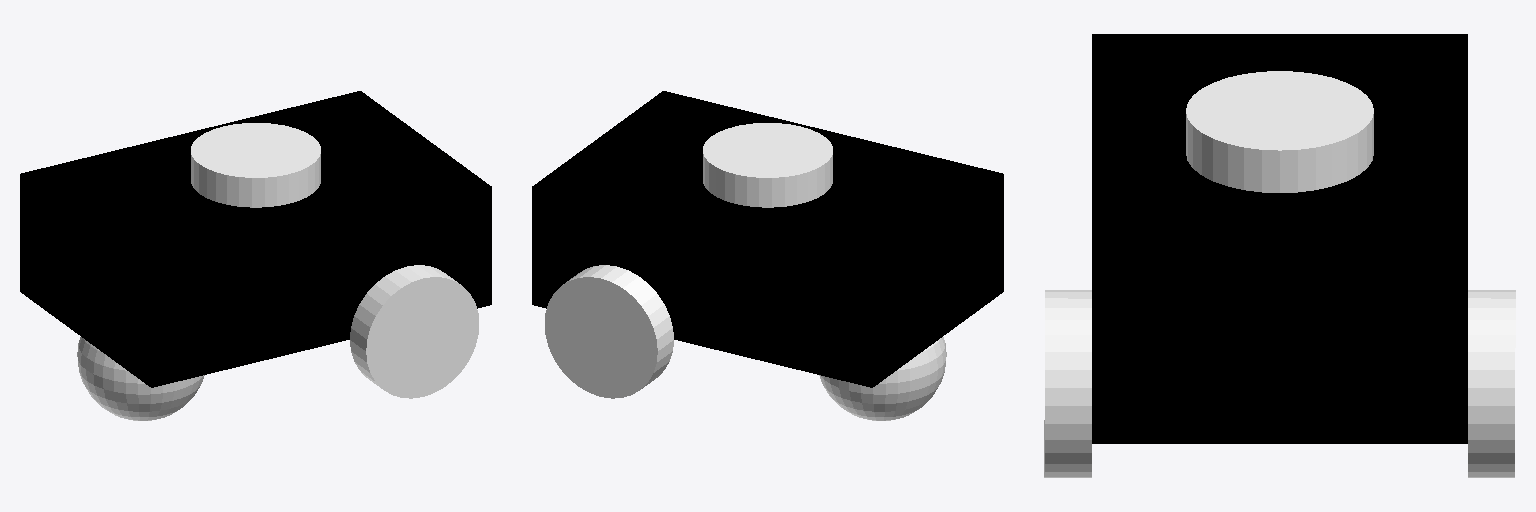
robot.urdf — dif_robot:
<?xml version="1.0"?>
<robot name="dif_robot">
    <material name="black">
        <color rgba="0 0 0 1"/>
    </material>

    <material name="green">
        <color rgba="0.6 0.39 0.45 1"/>
    </material>

    <material name="white">
        <color rgba="1 1 1 1"/>
    </material>

    <link name="base_link">
        <inertial>
            <origin xyz="0 0 0" rpy="0 0 0"/>
            <mass value="10.0"/> 
            <inertia ixx="0.1667" ixy="0.0" ixz="0.0" iyy="0.2333" iyz="0.0" izz="0.3333"/> 
        </inertial>
        <visual>
            <geometry>
                <box size="0.6 0.4 0.2"/>    
            </geometry>    
            <origin xyz="0 0 0.1" rpy="0 0 0"/>
            <material name="black"/>
        </visual>
        <collision>
            <geometry>
                <box size="0.6 0.4 0.2"/>    
            </geometry>    
            <origin xyz="0 0 0.1" rpy="0 0 0"/>
            <material name="black"/>
        </collision>
    </link>    

    <link name="lidar_link">
        <inertial>
            <origin xyz="0 0 0" rpy="0 0 0"/>
            <mass value="0.1"/> 
            <inertia ixx="0.000275" ixy="0.0" ixz="0.0" iyy="0.000275" iyz="0.0" izz="0.0005"/> 
        </inertial>
        <visual>
            <geometry>
                <cylinder radius="0.1" length="0.05"/>
            </geometry>
            <origin xyz="0 0 0" rpy="0 0 0"/>
            <material name="white"/>
        </visual>
    </link>

    <link name="left_wheel">
        <inertial>
            <origin xyz="0 0 0" rpy="0 0 0"/>
            <mass value="5"/>
            <inertia ixx="0.01375" ixy="0.0" ixz="0.0" iyy="0.01375" iyz="0.0" izz="0.025"/> 
        </inertial>
        <visual>
            <geometry>
                <cylinder radius="0.1" length="0.05"/>
            </geometry>
            <origin xyz="0 0 0" rpy="1.57 0 0"/>
            <material name="white"/>
        </visual>
        <collision>
            <geometry>
                <cylinder radius="0.1" length="0.05"/>
            </geometry>
            <origin xyz="0 0 0" rpy="1.57 0 0"/>
        </collision>
    </link>

    <link name="right_wheel">
        <inertial>
            <origin xyz="0 0 0" rpy="0 0 0"/>
            <mass value="5"/> 
            <inertia ixx="0.01375" ixy="0.0" ixz="0.0" iyy="0.01375" iyz="0.0" izz="0.025"/>
        </inertial>
        <visual>
            <geometry>
                <cylinder radius="0.1" length="0.05"/>
            </geometry>
            <origin xyz="0 0 0" rpy="1.57 0 0"/>
            <material name="white"/>
        </visual>
        <collision>
            <geometry>
                <cylinder radius="0.1" length="0.05"/>
            </geometry>
            <origin xyz="0 0 0" rpy="1.57 0 0"/>
        </collision>
    </link>
    
    <link name="caster_wheel">
        <inertial>
            <origin xyz="0 0 0" rpy="0 0 0"/>
            <mass value="2"/> 
            <inertia ixx="0.008" ixy="0.0" ixz="0.0" iyy="0.008" iyz="0.0" izz="0.008"/> 
        </inertial>
        <visual>
            <geometry>
                <sphere radius="0.1"/>
            </geometry>
            <origin xyz="0.0 0.0 0.0" rpy="0 0 0"/>
            <material name="white"/>
        </visual>
        <collision>
            <geometry>
                <sphere radius="0.05"/>
            </geometry>
            <origin xyz="0.0 0.0 0.0" rpy="0 0 0"/>
        </collision>
    </link>

    <joint name="base_lidar_joint" type="fixed">
        <parent link="base_link"/>
        <child link="lidar_link"/>
        <origin xyz="0 0 0.225"/>
    </joint>

    <joint name="left_wheel_joint" type="continuous">
        <parent link="base_link"/>
        <child link="left_wheel"/>
        <origin xyz="0.15 0.225 0" rpy="0 0 0"/>
        <axis xyz="0 1 0"/>
        <limit lower="-100000000" upper="100000000" effort="500" velocity="500"/>
        <dynamics damping="0.7" friction="0.1"/>
    </joint>

    <joint name="right_wheel_joint" type="continuous">
        <parent link="base_link"/>
        <child link="right_wheel"/>
        <origin xyz="0.15 -0.225 0" rpy="0 0 0"/>
        <axis xyz="0 1 0"/>
        <limit lower="-100000000" upper="100000000" effort="500" velocity="500"/>
        <dynamics damping="0.7" friction="0.1"/>
    </joint>

    <joint name="base_caster_wheel_joint" type="revolute">
        <parent link="base_link"/>
        <child link="caster_wheel"/>
        <origin xyz="-0.2 0.0 -0.05" rpy="0.0 0.0 0.0"/>
        <limit lower="-100000000" upper="100000000" effort="100" velocity="100"/>
        <axis xyz="1 1 0"/>
        <dynamics damping="0.05" friction="0.1"/>
    </joint>
</robot>

--- What the picture shows (computed from the rendered views, not written in the file) ---
3 views of the same robot in one strip: view 1: azimuth 30°, elevation 25°; view 2: azimuth 150°, elevation 25°; view 3: azimuth 270°, elevation 25° (orthographic).
Model dif_robot with 5 links and 4 joints (1 revolute, 2 continuous, 1 fixed), rooted at base_link, posed every joint at zero.
Links seen in each view (by area): view 1: base_link, right_wheel, lidar_link, caster_wheel; view 2: base_link, left_wheel, lidar_link, caster_wheel; view 3: base_link, lidar_link, left_wheel, right_wheel.
Link boxes in pixels (bbox=[...]): base_link: bbox=[20, 91, 491, 387]; right_wheel: bbox=[350, 265, 478, 398]; lidar_link: bbox=[191, 123, 320, 207]; caster_wheel: bbox=[77, 337, 204, 420]; base_link: bbox=[532, 91, 1003, 387]; left_wheel: bbox=[545, 265, 673, 398]; lidar_link: bbox=[703, 123, 832, 207]; caster_wheel: bbox=[819, 337, 946, 420]; base_link: bbox=[1092, 34, 1467, 443]; lidar_link: bbox=[1186, 71, 1373, 192]; left_wheel: bbox=[1468, 290, 1515, 477]; right_wheel: bbox=[1044, 290, 1091, 477].
Bounding box of the posed robot: 0.6 × 0.5002 × 0.4 m (x, y, z).
Geometry: primitives only (box / cylinder / sphere), no mesh files.
